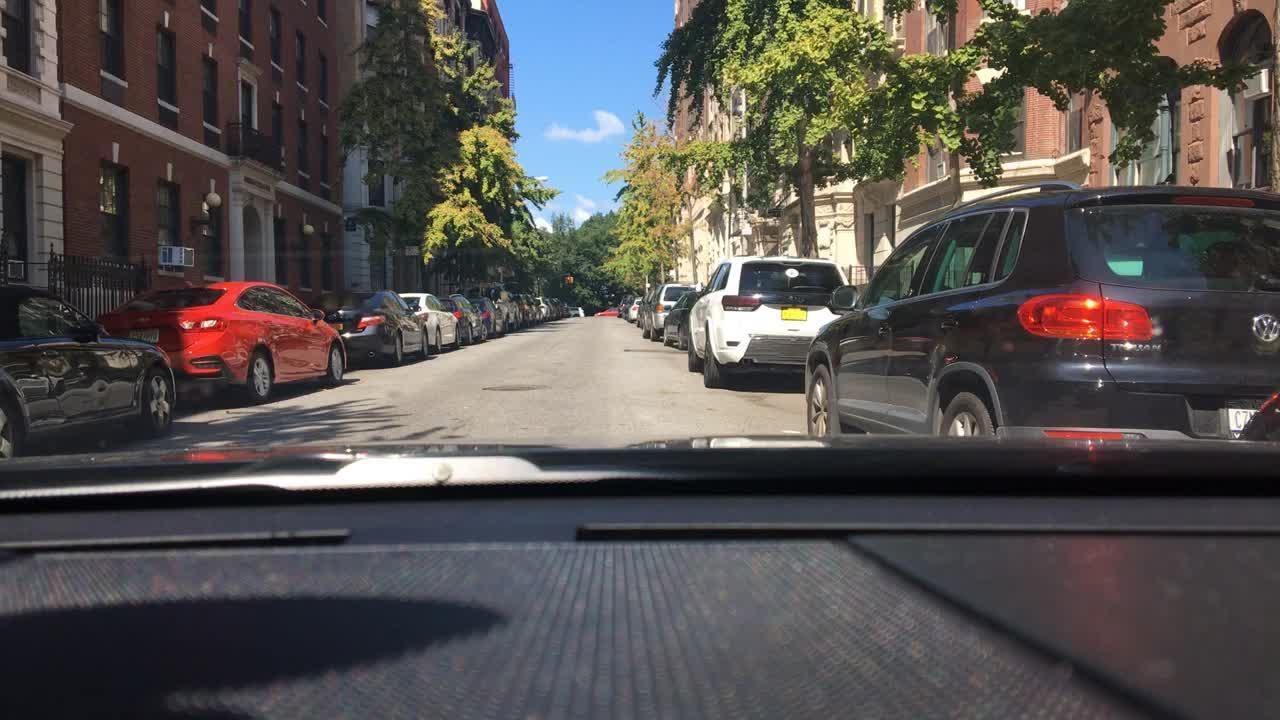Volkswagen: (1235, 306, 1280, 353)
